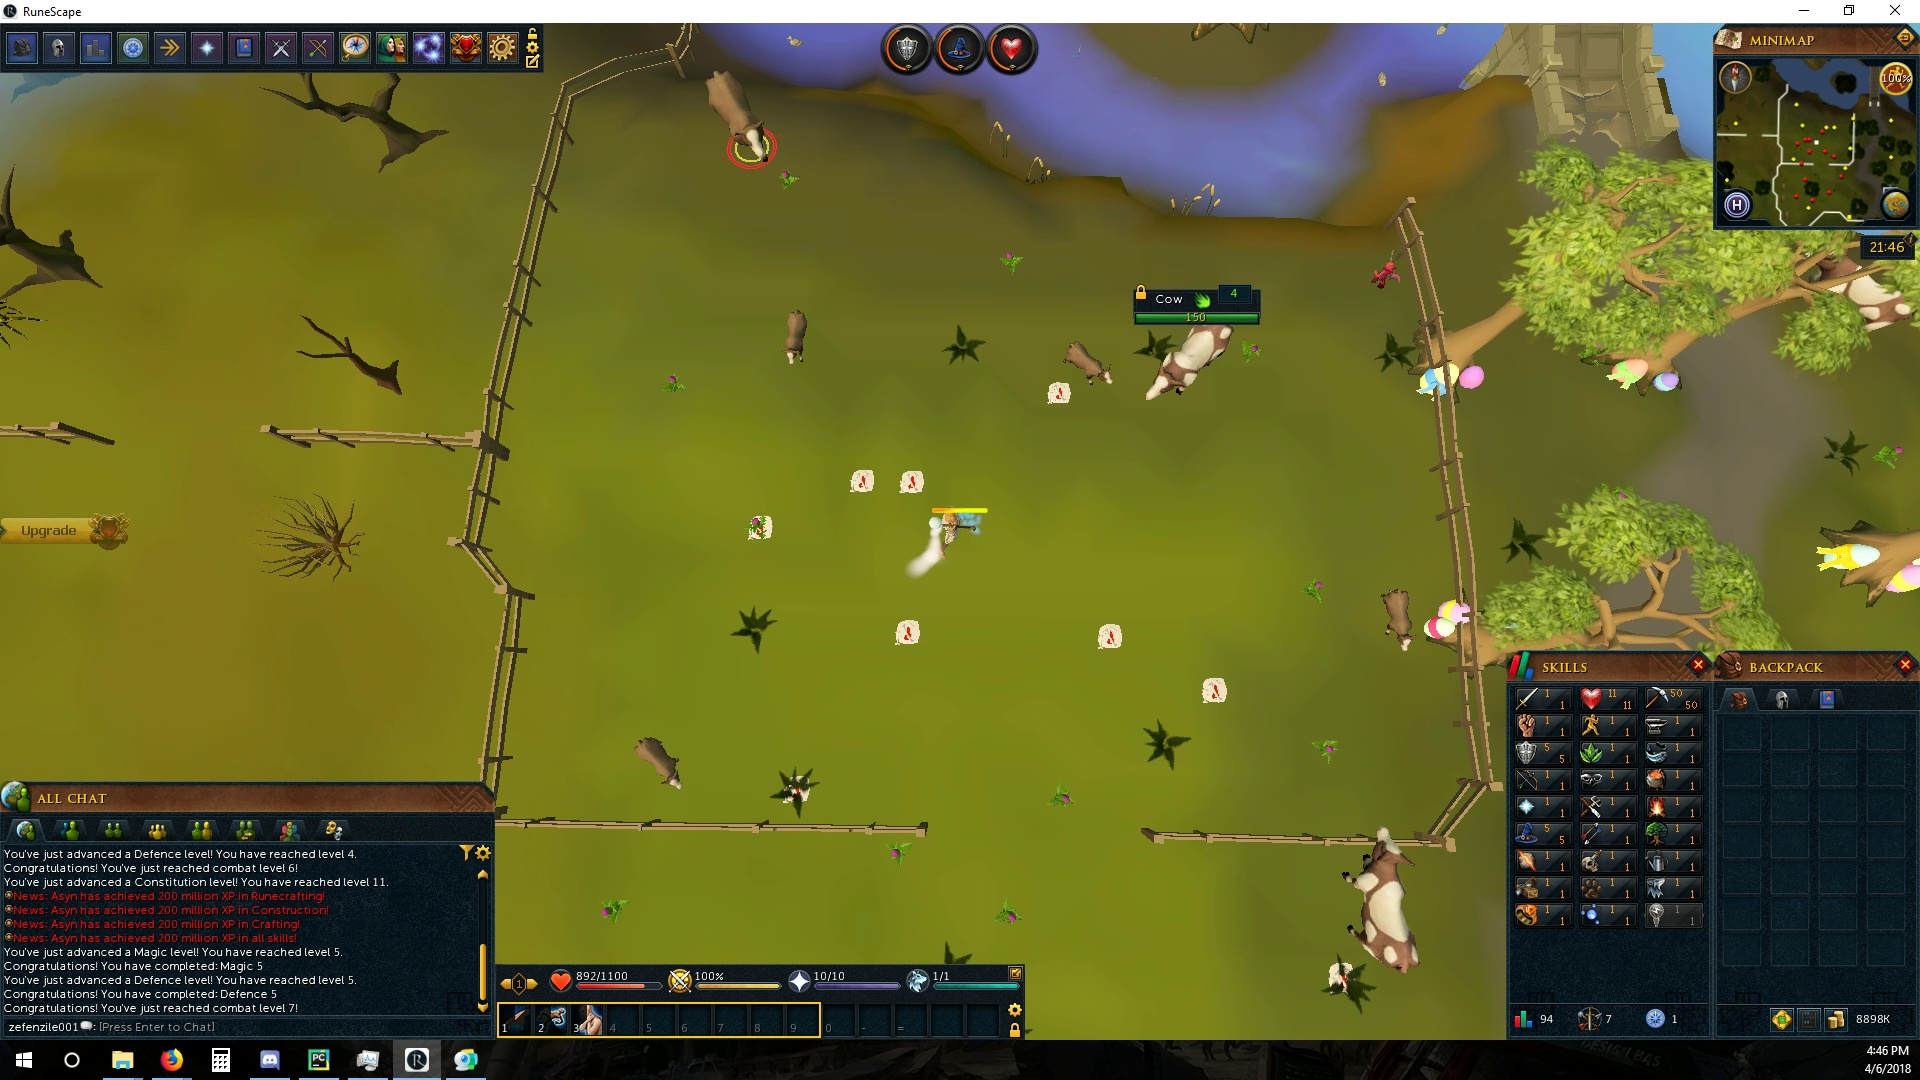calf: (1377, 585, 1422, 654), (636, 735, 686, 795), (1059, 342, 1118, 392), (779, 310, 810, 371)
cow: (1342, 827, 1425, 976), (1803, 245, 1916, 334), (1138, 326, 1240, 405), (703, 70, 775, 166)
cow_drop: (742, 510, 777, 545), (1329, 957, 1356, 996), (891, 618, 922, 649), (848, 464, 876, 497), (1097, 622, 1126, 653), (1044, 378, 1075, 406), (1200, 676, 1228, 705), (898, 468, 924, 498)
